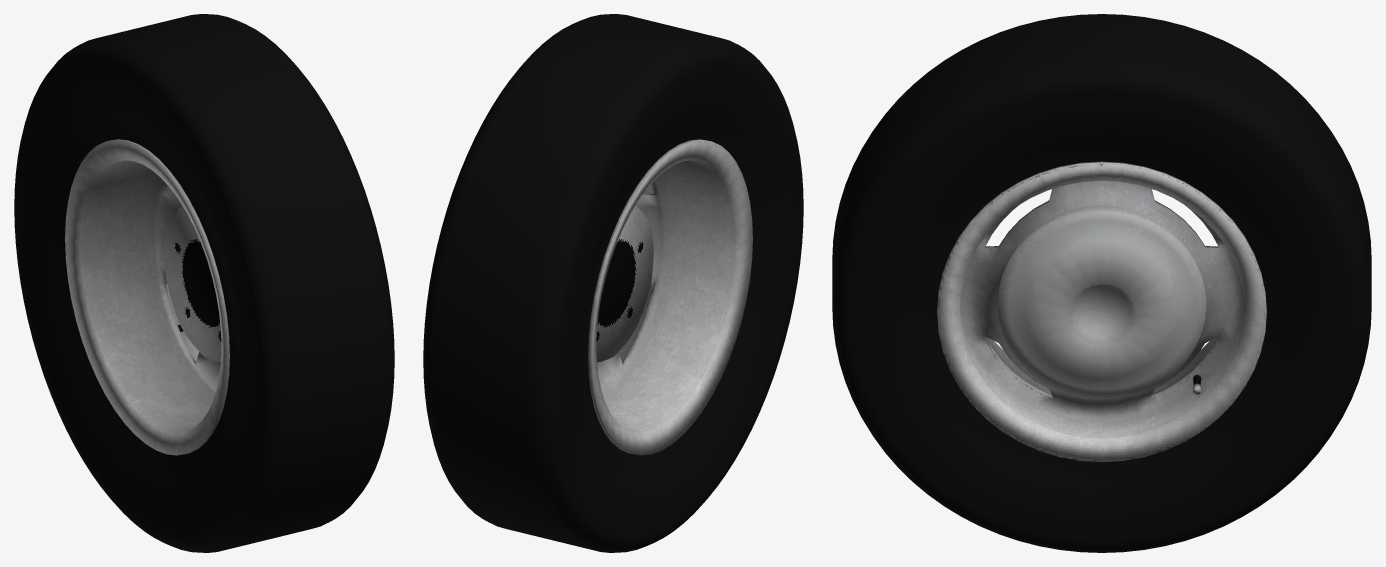
The model's file is gaz_24_24_volga_wheel_rear_right.glb.
3 renders of one model, left to right at view 1: azimuth 30°, elevation 25°; view 2: azimuth 150°, elevation 25°; view 3: azimuth 270°, elevation 25°, orthographic. The views are drawn at different scales.
Visible parts, largest first — view 1: GAZ24_Wheel_rear_right; view 2: GAZ24_Wheel_rear_right; view 3: GAZ24_Wheel_rear_right.
Part boxes in pixels (box(x1,y1,x2,y2)): GAZ24_Wheel_rear_right: box(14, 14, 394, 552); GAZ24_Wheel_rear_right: box(423, 14, 803, 552); GAZ24_Wheel_rear_right: box(832, 14, 1371, 552).
Bounding box in the file's own units: 0.185 × 0.6516 × 0.6516.
Materials: 1 (1 with a texture image).
